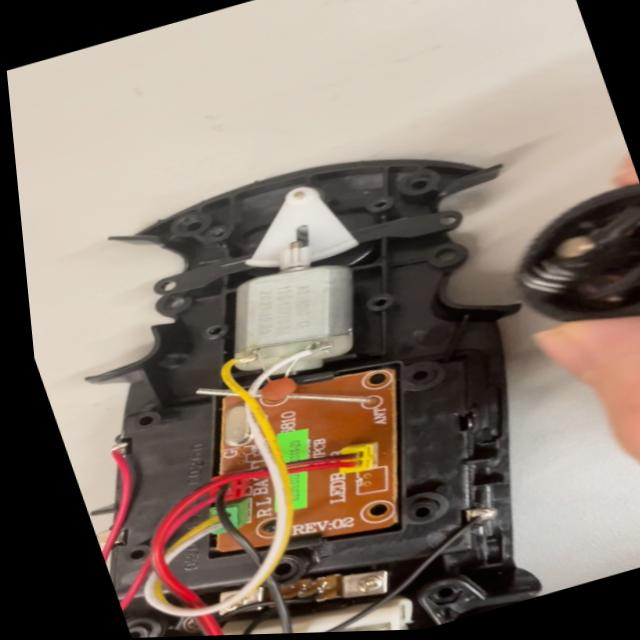motor: (185, 225, 385, 399)
